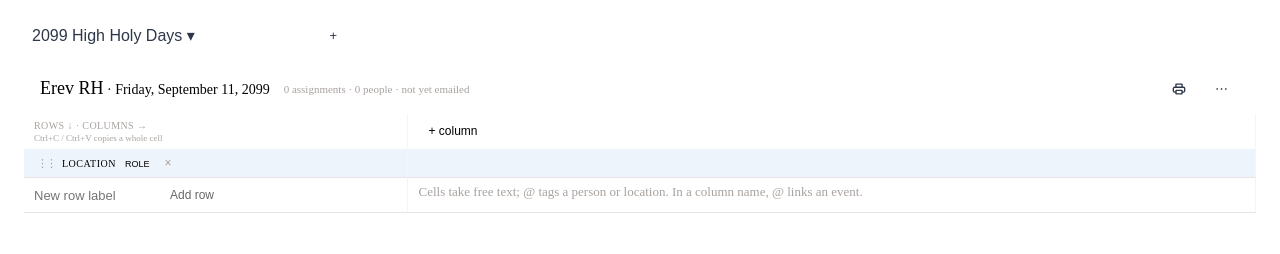
Scenario: SchedulingSheets — workbook picker › SSWP-4: an outside mousedown closes the sheet menu and disarms its confirm
Click the button with test id "sheet-menu-button": (1222, 88) [1203,74,1240,103]
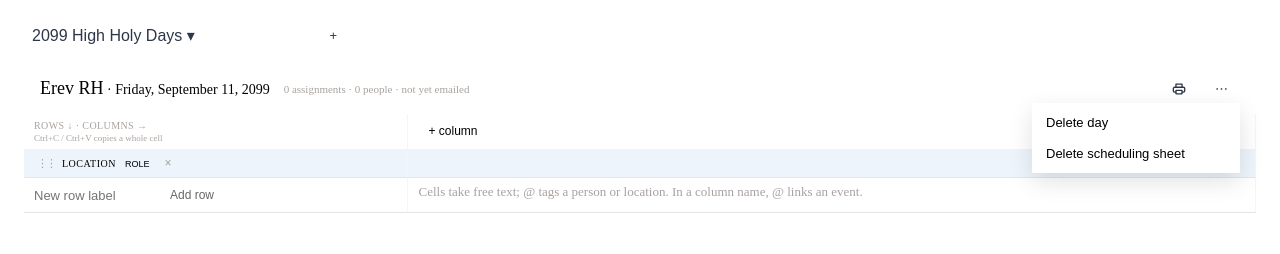
Click the button with test id "delete-day-button": (1136, 122) [1036,107,1236,138]
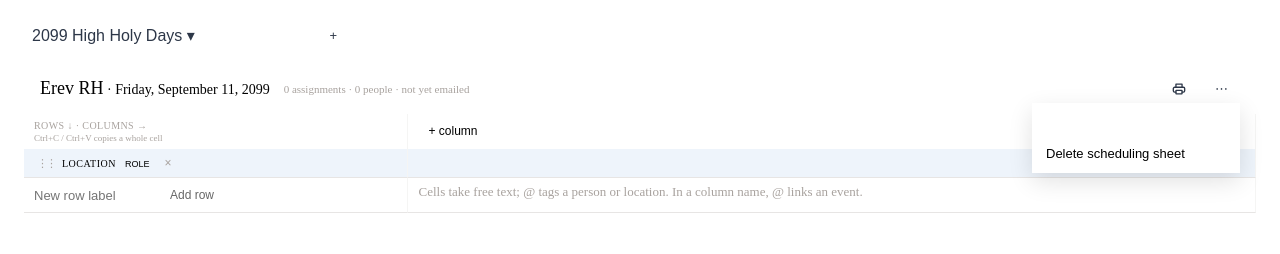
Press the mouse on the element that starts with "2099 High Holy Days": (640, 122) [8,8,1272,237]
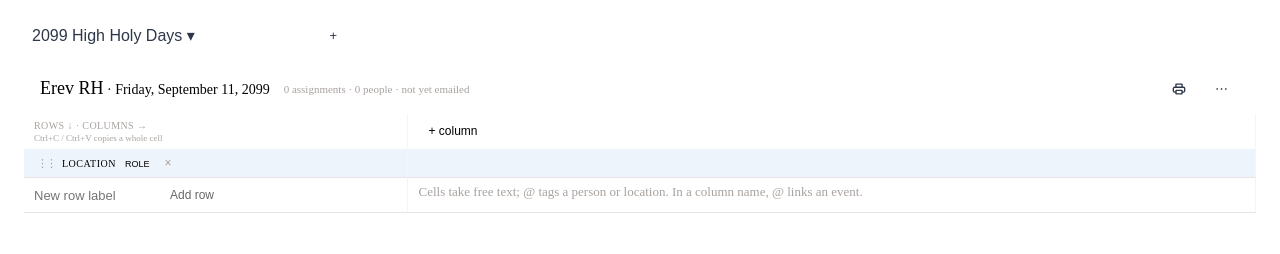
Result: the element with test id "sheet-menu" is gone
Click the button with test id "sheet-menu-button": (1222, 88) [1203,74,1240,103]
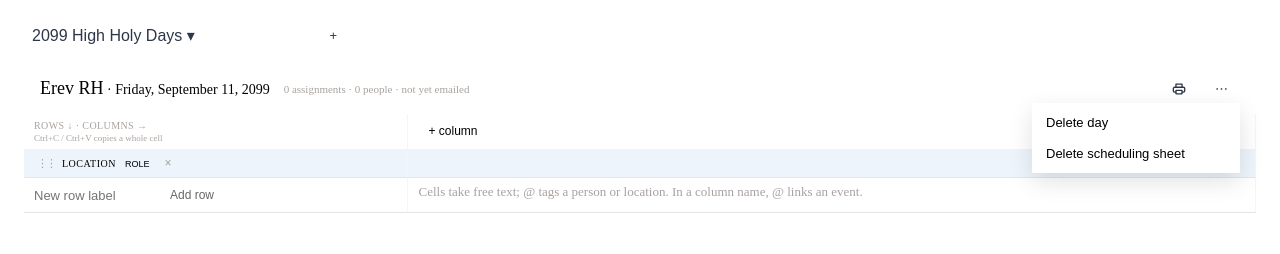
Result: the button with test id "delete-day-button" reads "Delete day" at [1036,107,1236,138]
